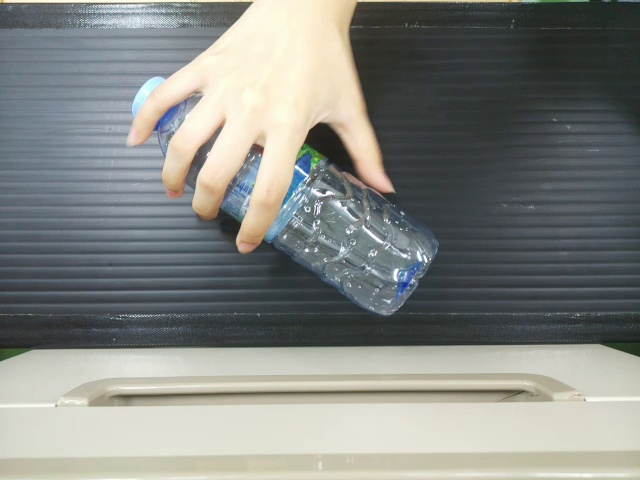bottle: (273, 143, 445, 317)
